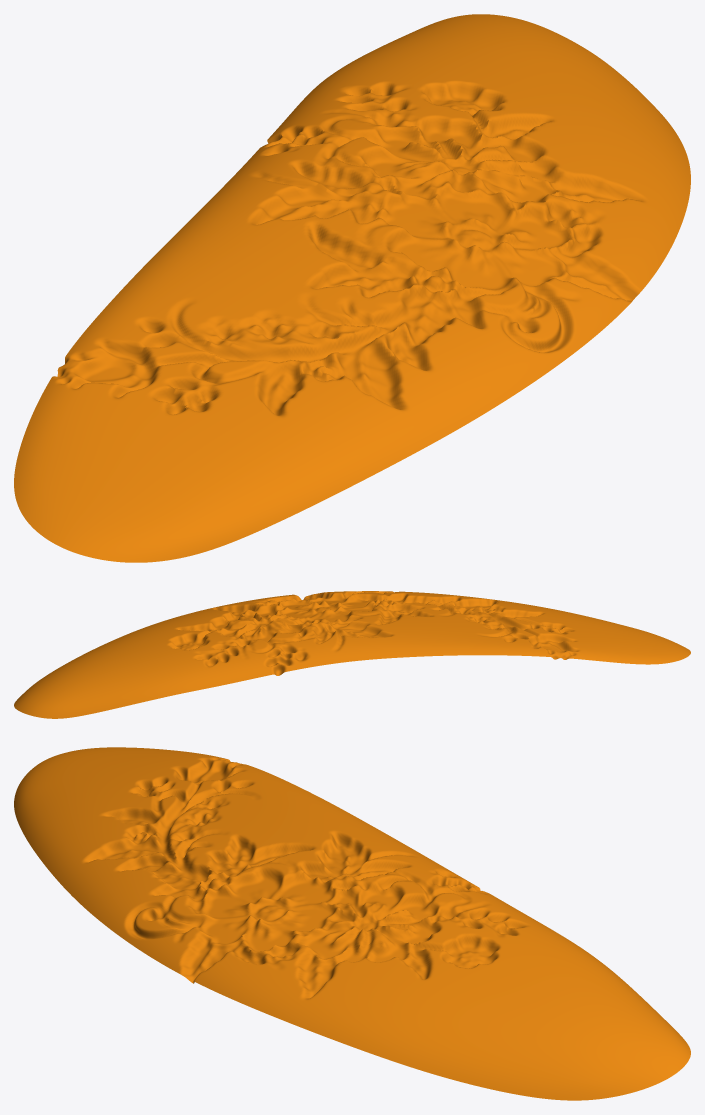
The model's file is cuban_top_engraving.glb.
3 renders of one model, top to bottom at view 1: azimuth 30°, elevation 25°; view 2: azimuth 150°, elevation 25°; view 3: azimuth 270°, elevation 25°, orthographic. The views are drawn at different scales.
Parts seen in each view (by area): view 1: cuban_top_engraving; view 2: cuban_top_engraving; view 3: cuban_top_engraving.
Boxes of the visible parts, x1,y1,x2,y2 form: cuban_top_engraving: (14, 14, 690, 562); cuban_top_engraving: (14, 591, 690, 718); cuban_top_engraving: (14, 747, 690, 1100).
Bounding box in the file's own units: 0.1053 × 0.0123 × 0.0921.
